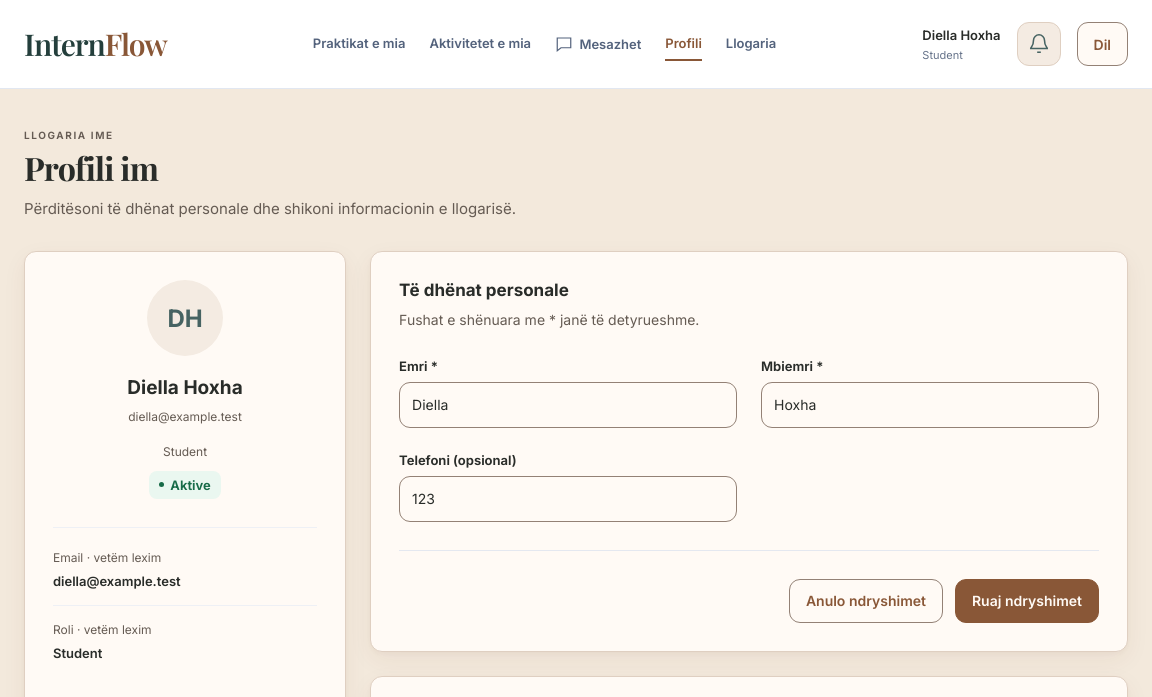
Test: self-service profile › sends only changed permitted fields, refreshes AuthProvider and shows success
Replace the text in the field labelled "Emri *" with "Updated" at (568, 405), box [399,382,737,428]
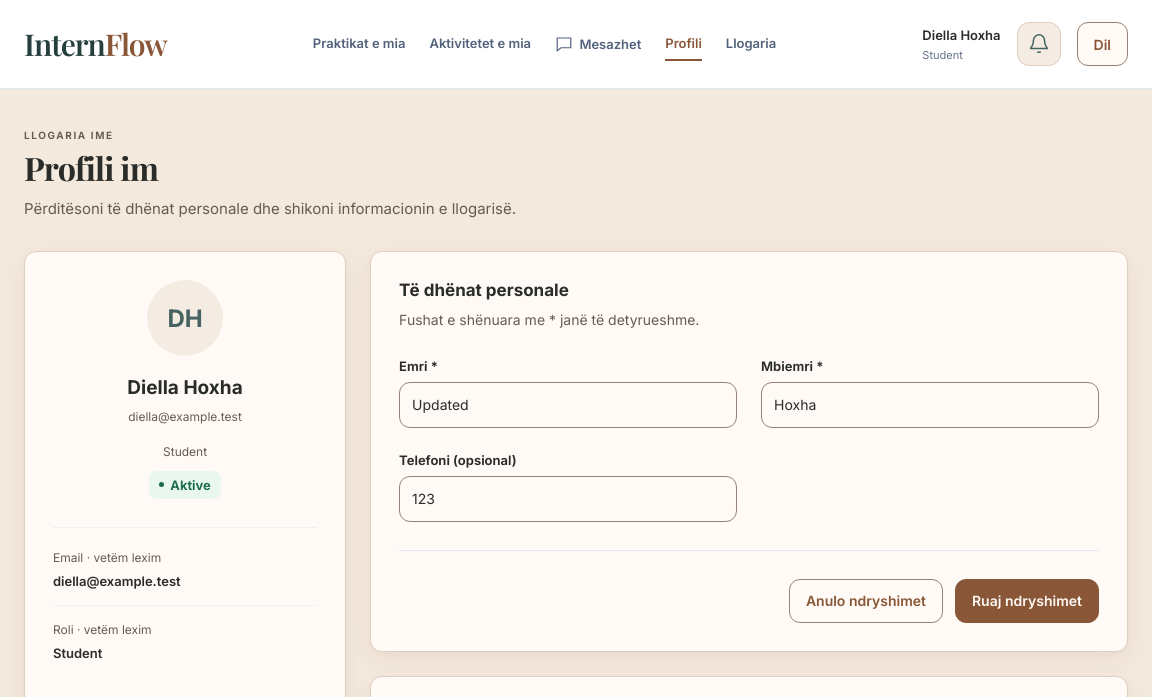
Click the button "Ruaj ndryshimet" at (1027, 601), box [955,579,1099,623]
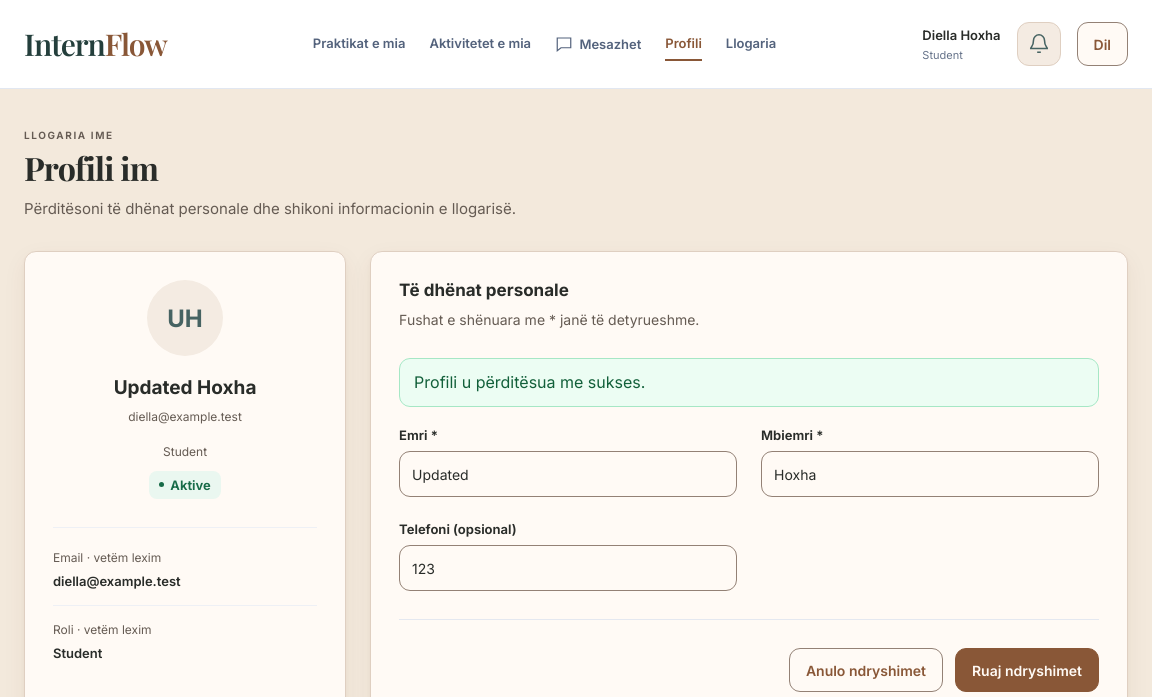
Expected: the text "Profili u përditësua me sukses." is shown, [399,358,1099,407]
Expected: the button "Ruaj ndryshimet" is disabled, [955,648,1099,692]
